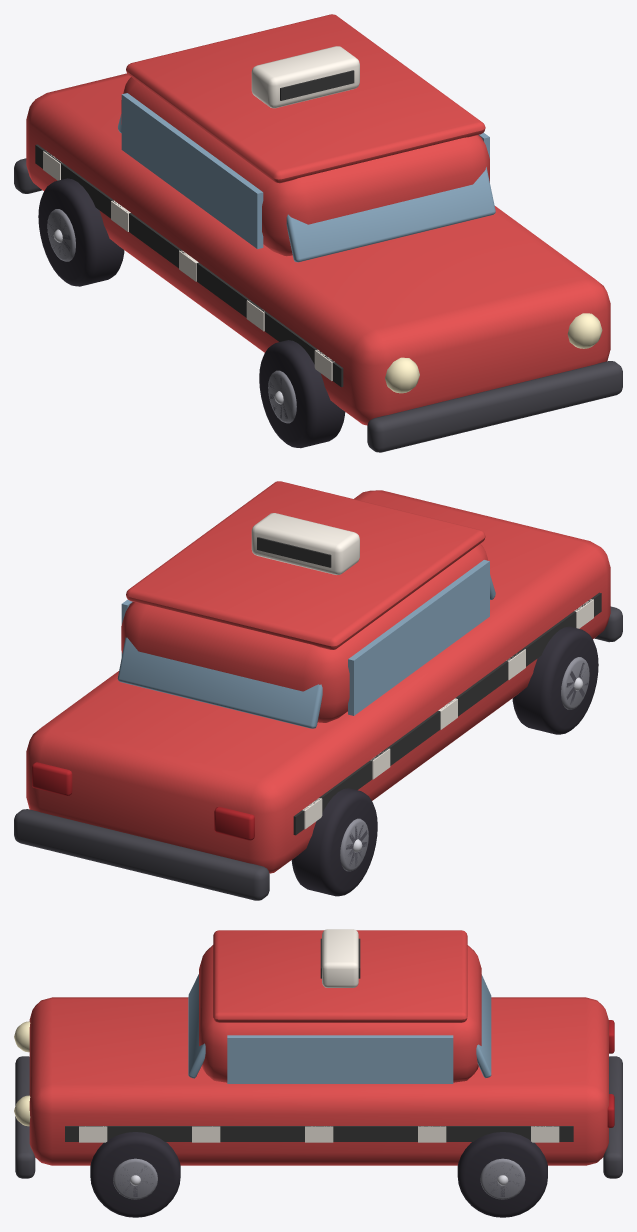
The model's file is car_taxi.glb.
3 renders of one model, top to bottom at view 1: azimuth 30°, elevation 25°; view 2: azimuth 150°, elevation 25°; view 3: azimuth 270°, elevation 25°, orthographic. The views are drawn at different scales.
Parts seen in each view (by area): view 1: body, wheel_rr, wheel_fr; view 2: body, wheel_fr, wheel_rr; view 3: body, wheel_fl, wheel_rl.
Boxes of the visible parts, box(x1,y1,x2,y2) form: body: box(14, 14, 622, 452); wheel_rr: box(38, 178, 124, 286); wheel_fr: box(259, 340, 345, 448); body: box(14, 481, 622, 900); wheel_fr: box(512, 626, 598, 734); wheel_rr: box(291, 788, 377, 896); body: box(14, 929, 622, 1178); wheel_fl: box(90, 1132, 180, 1217); wheel_rl: box(457, 1132, 547, 1217).
Bounding box in the file's own units: 2.09 × 1.68 × 4.31.
